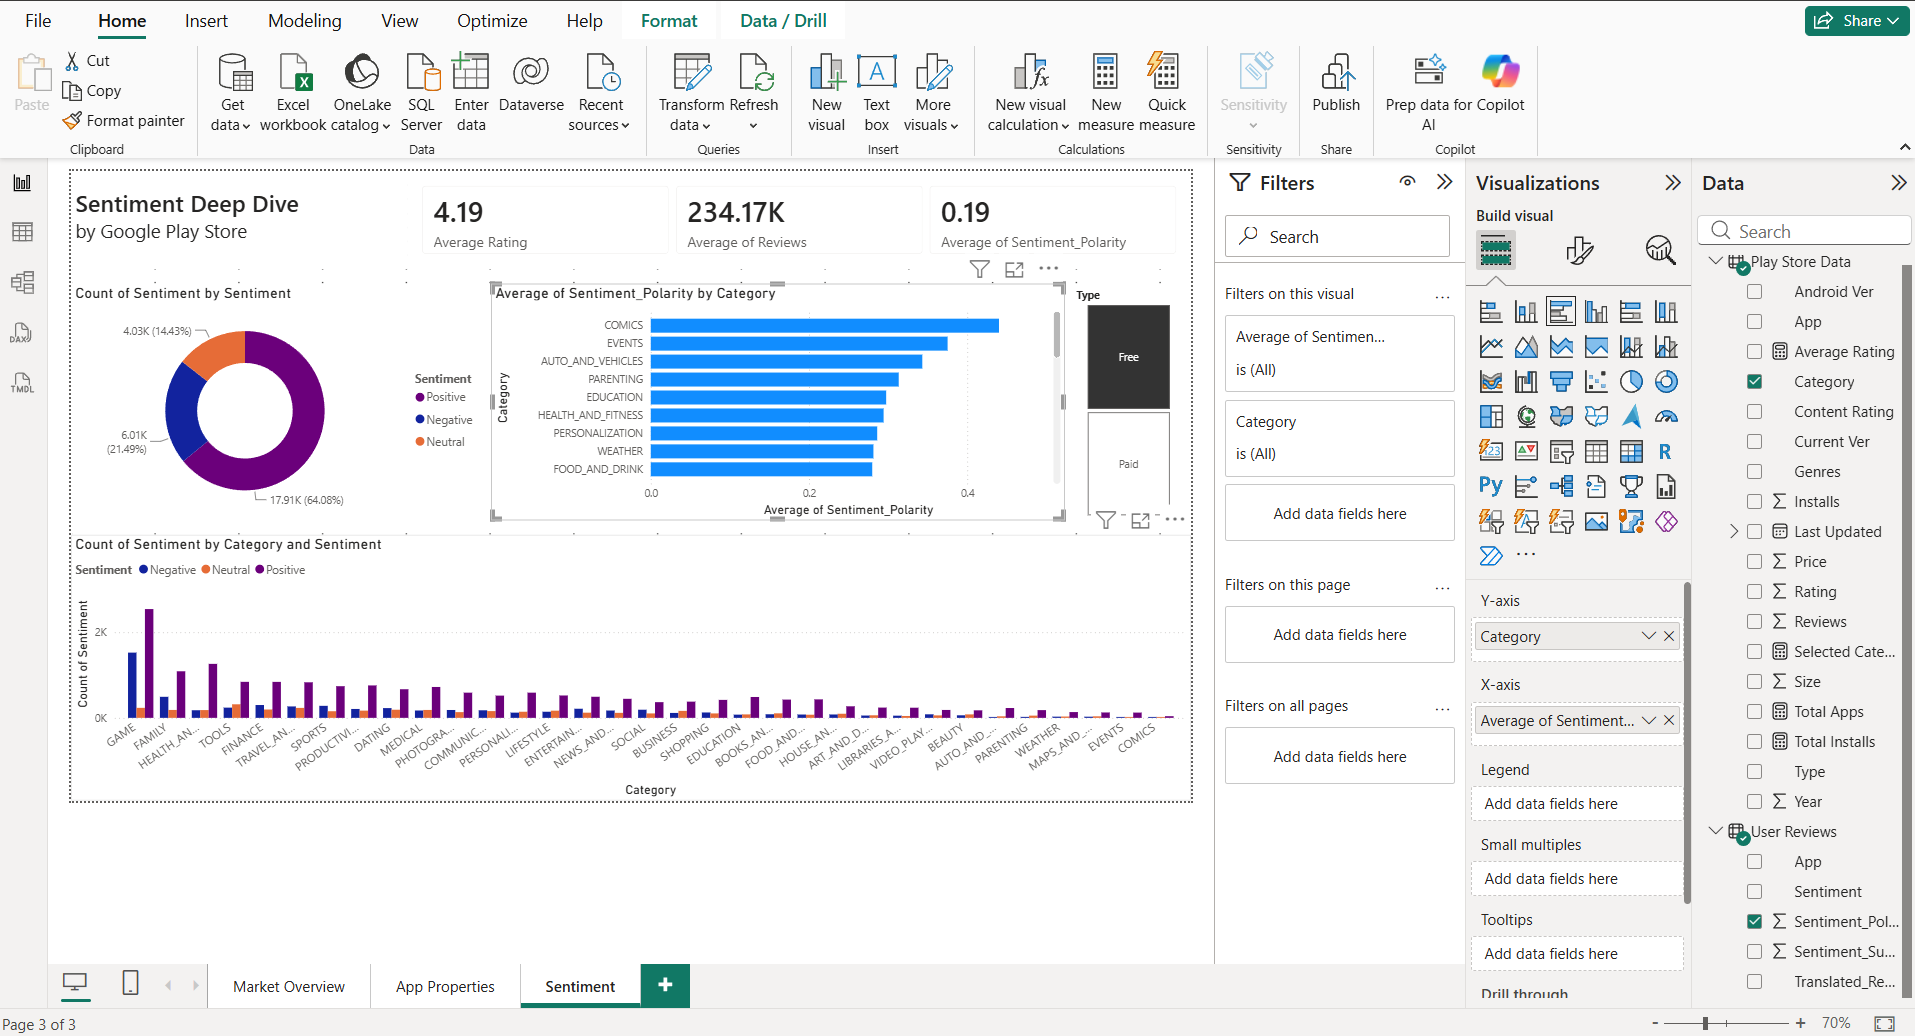

The page's visual inventory and layout, read from the dashboard file:
{"tool":"powerbi","page":{"name":"Sentiment","canvas":[1280,720],"ordinal":2},"visuals":[{"type":"textbox","box":[0,0,384,112],"z":0},{"type":"cardVisual","fields":{"Data":["Play Store Data.Average Rating","Avg(Play Store Data.Reviews)","Avg(User Reviews.Sentiment_Polarity)"]},"box":[384,0,896,112],"z":1},{"type":"slicer","fields":{"Values":["Play Store Data.Type"]},"box":[1136,128,144,272],"z":2},{"type":"donutChart","fields":{"Category":["User Reviews.Sentiment"],"Y":["CountNonNull(User Reviews.Sentiment)"]},"box":[0,128,480,272],"z":3},{"type":"clusteredColumnChart","fields":{"Category":["Play Store Data.Category"],"Series":["User Reviews.Sentiment"],"Y":["CountNonNull(User Reviews.Sentiment)"]},"box":[0,416,1280,304],"z":4},{"type":"clusteredBarChart","fields":{"Category":["Play Store Data.Category"],"Y":["Avg(User Reviews.Sentiment_Polarity)"]},"box":[480,128,656,272],"z":5}]}

Visuals, with their boxes on the page's 1280x720 design canvas (x1, y1, x2, y2). These are canvas units, not pixel positions in the 1915x1036 screenshot, which may show the page scaled, cropped or inside an application window:
textbox: 0/0/384/112
cardVisual - Play Store Data.Average Rating x Avg(Play Store Data.Reviews): 384/0/1280/112
slicer - Play Store Data.Type: 1136/128/1280/400
donutChart - User Reviews.Sentiment x CountNonNull(User Reviews.Sentiment): 0/128/480/400
clusteredColumnChart - Play Store Data.Category x User Reviews.Sentiment: 0/416/1280/720
clusteredBarChart - Play Store Data.Category x Avg(User Reviews.Sentiment_Polarity): 480/128/1136/400
